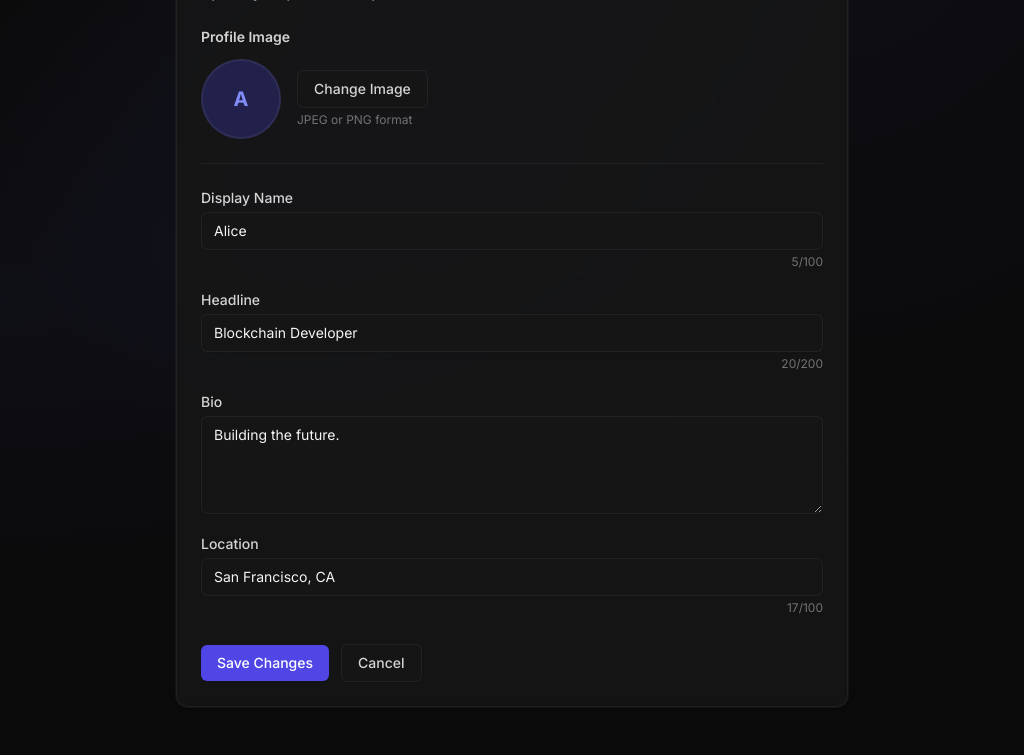
ProfileEditPage › shows error message when save fails
The width and height of the screenshot is (1024, 755).
(page scrolled)
Expected: the field labelled "Display Name" is shown, [201, 212, 823, 250]
What coordinates should you click on to do the following:
click the button "Save Changes"
I would click on:
 (265, 663)
Its box is [201, 645, 329, 681].
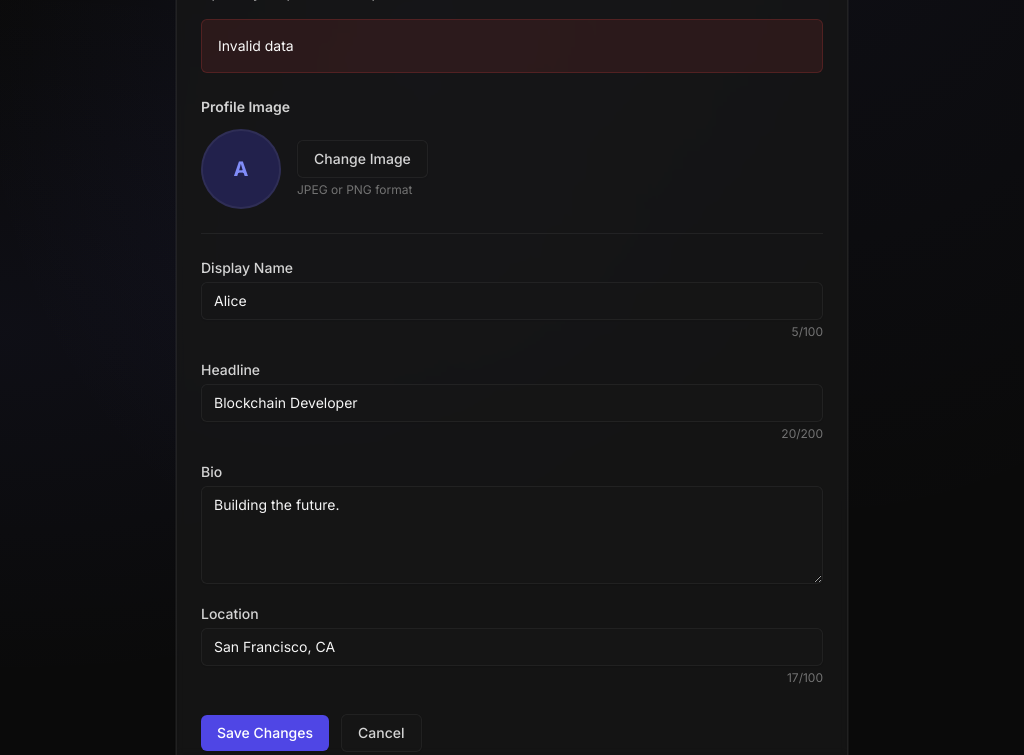
Expected: the message reads "Invalid data", [218, 37, 294, 54]
